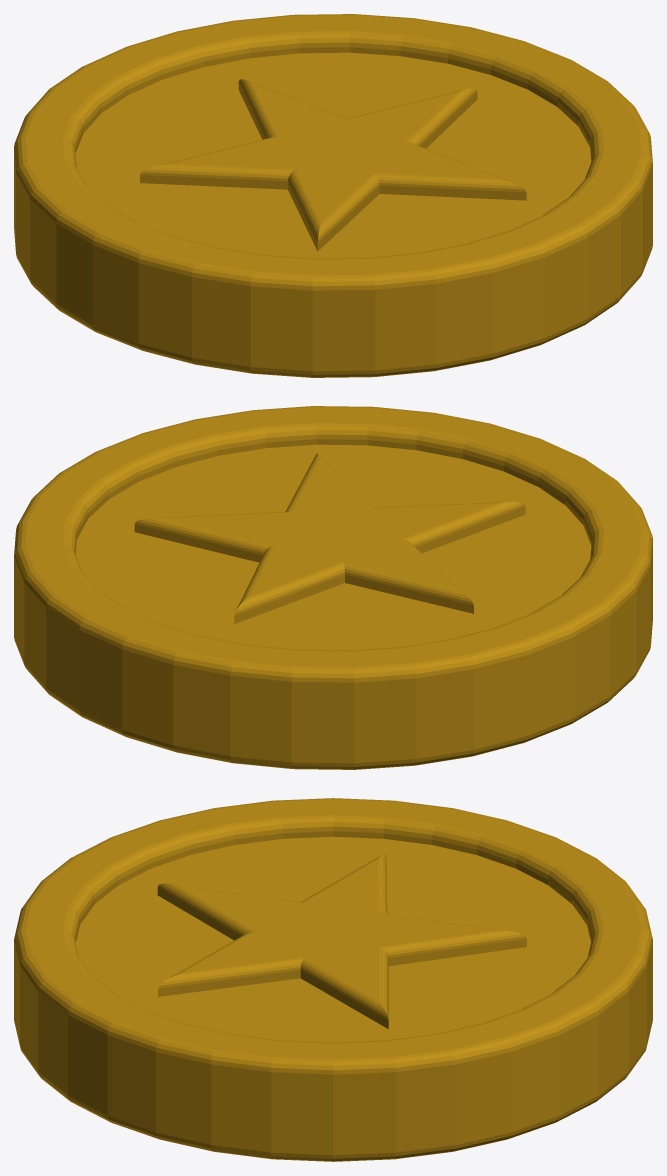
The model's file is coinblend (1).fbx.
The picture shows the model from 3 angles, top to bottom: view 1: azimuth 30°, elevation 25°; view 2: azimuth 150°, elevation 25°; view 3: azimuth 270°, elevation 25°; orthographic projection.
Parts seen in each view (by area): view 1: Circle, Circle.001; view 2: Circle, Circle.001; view 3: Circle, Circle.001.
Boxes of the visible parts, bbox=[...] form: Circle: bbox=[14, 14, 652, 377]; Circle.001: bbox=[75, 52, 590, 258]; Circle: bbox=[14, 406, 652, 769]; Circle.001: bbox=[76, 444, 591, 650]; Circle: bbox=[14, 798, 652, 1161]; Circle.001: bbox=[76, 836, 589, 1042].
Size of the model in its own units: 200 by 34.99 by 200.
